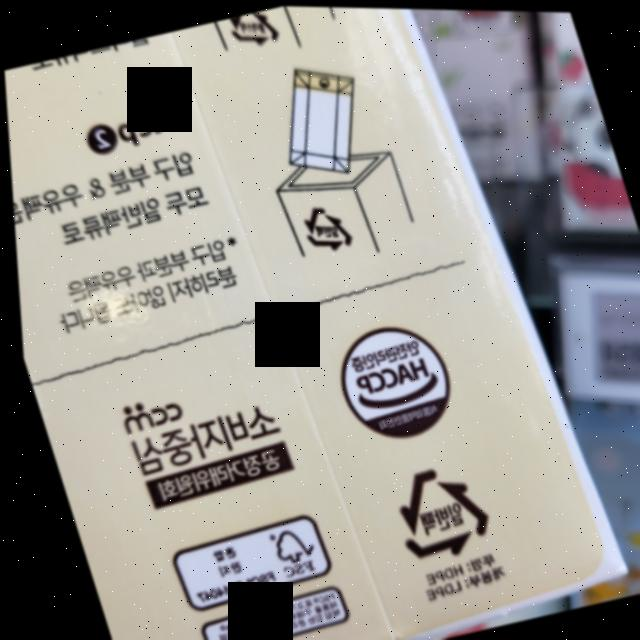NormalPack: (370, 445, 499, 573)
